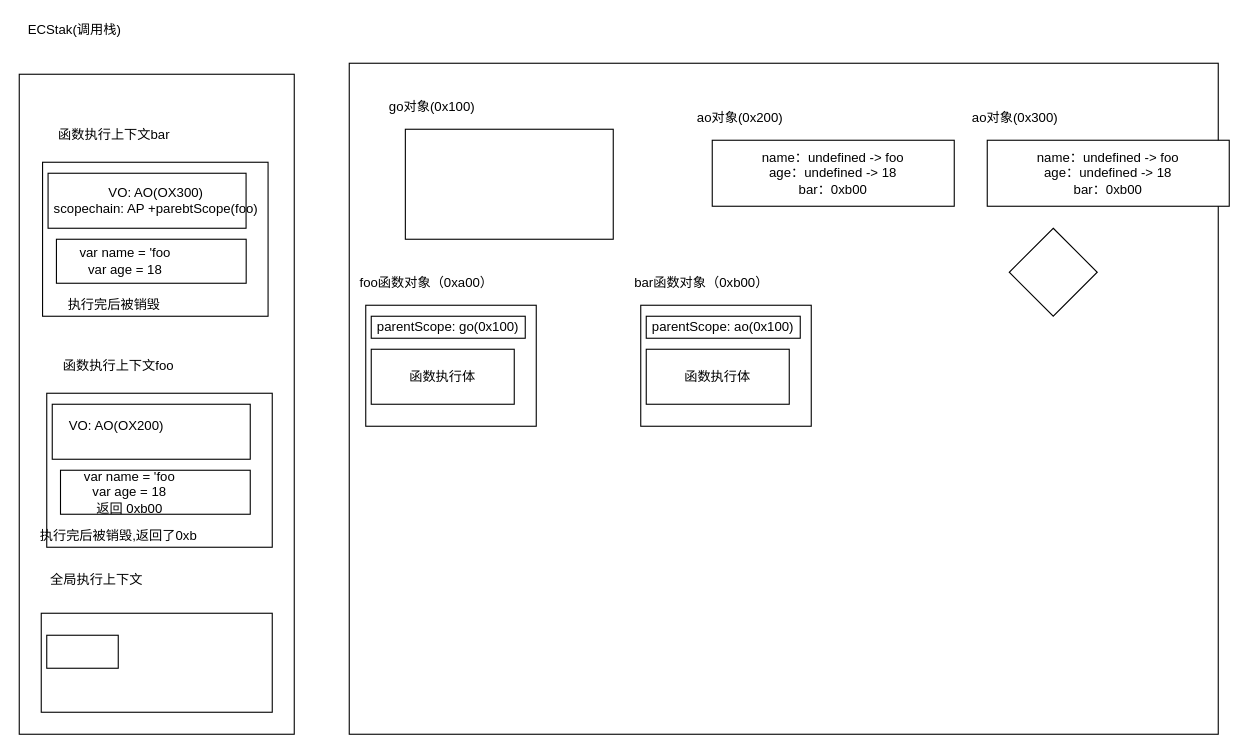
This 1249x754 diagram has some shape labels left out. The centre of each missing label's shape, as x and y in pixels:
"date string window 准备执行之前，进行解析 foo：undefined ->内存地址 fn:undefined ->内存地址->0xb00" belongs at point 508,183.
"vo： go" belongs at point 82,651.
